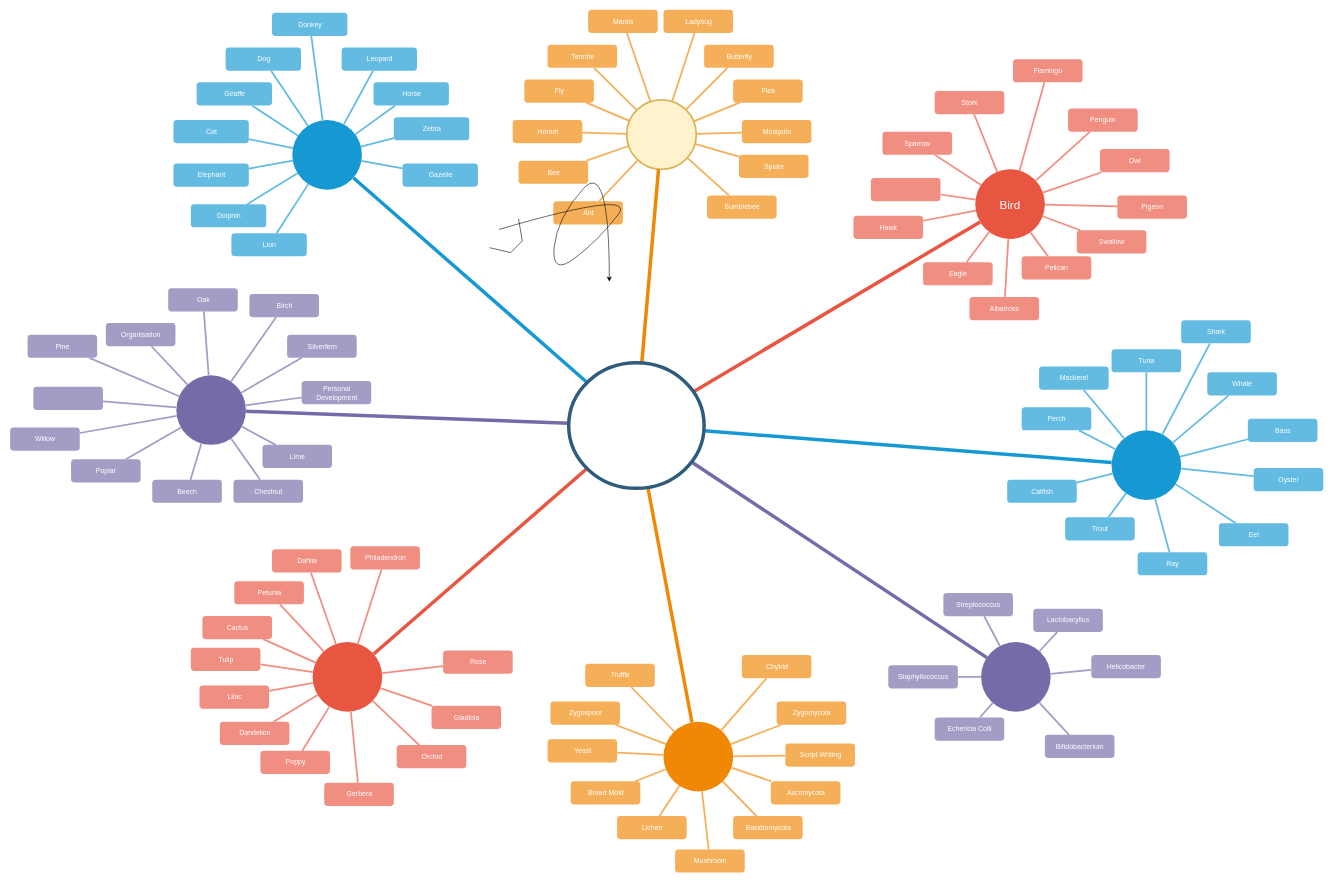
Image size: 1333x883. Some labels were removed from this diagram. Here are the shapes that lost their labels. From the top down, the box of each, then its label:
(292, 120, 362, 189): Mammal
(626, 99, 697, 170): Insect
(871, 178, 940, 201): Falcon
(33, 387, 103, 410): Acacia
(567, 361, 706, 490): Git
(1111, 430, 1181, 500): Fish
(312, 642, 382, 711): Flower
(981, 642, 1050, 711): Bacteria
(663, 722, 733, 791): Fungi
